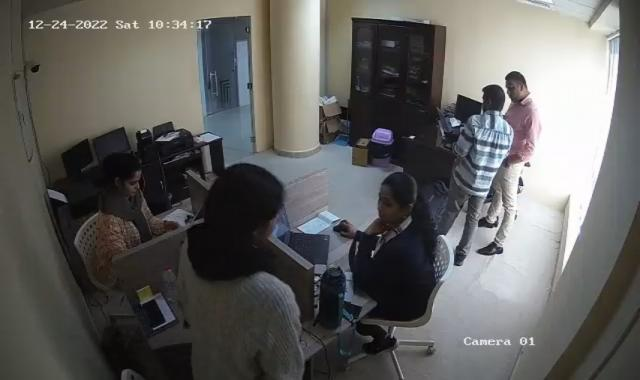no_hairnet: (213, 164, 284, 247), (374, 170, 422, 227), (112, 150, 144, 197), (504, 70, 532, 104), (480, 85, 504, 116)
